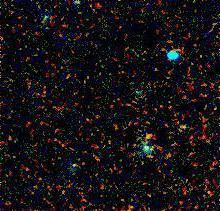star: (136, 117, 166, 147)
